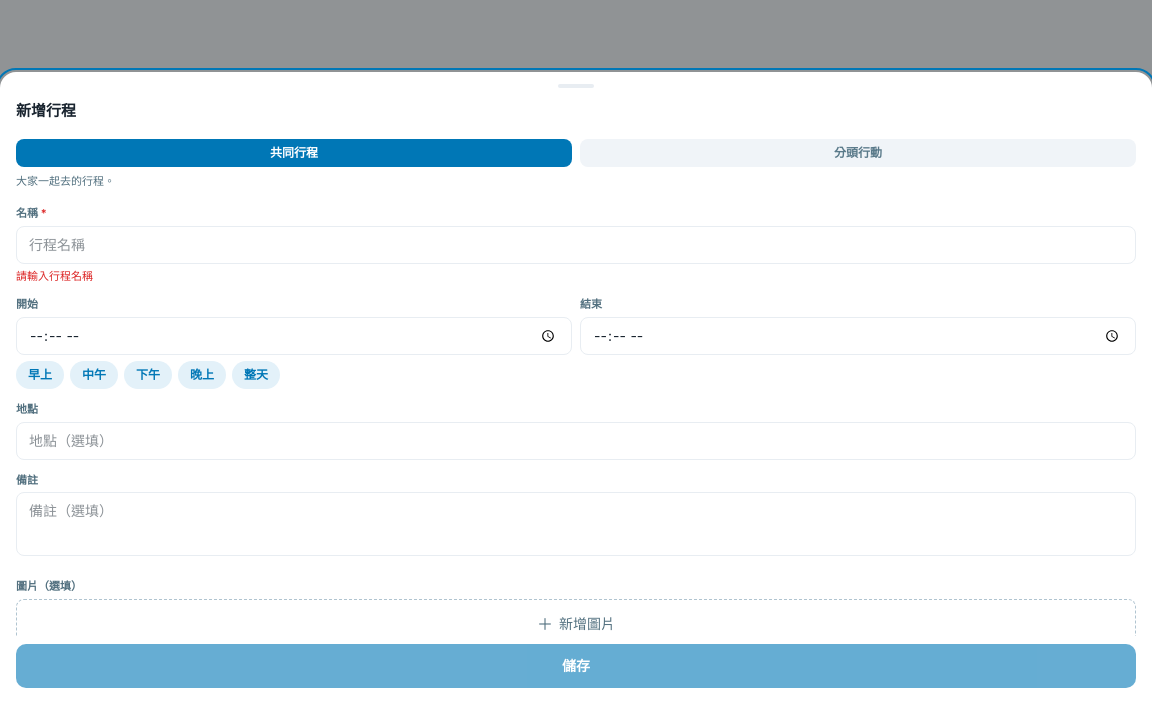
Test: EventSheet › switches to fork mode and shows member selects when members provided
Click the button "分頭行動" at (858, 152), box [580, 138, 1136, 166]
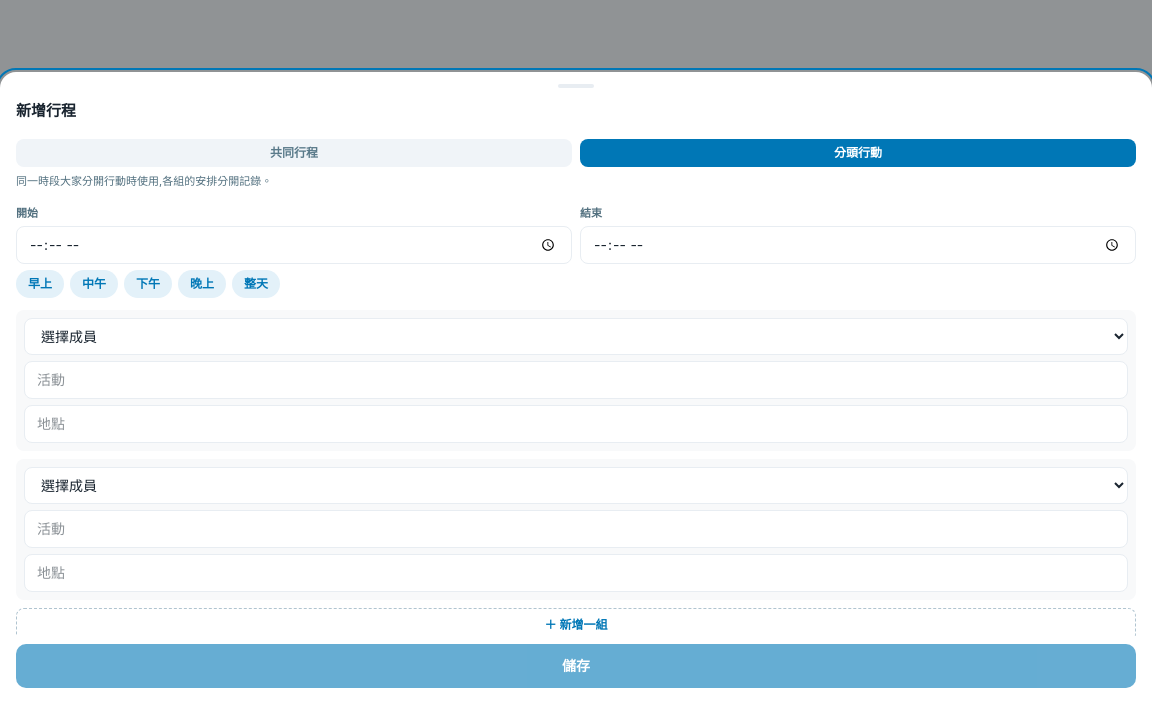
Check: the number of dropdowns is 2, box [24, 318, 1128, 355]; [24, 467, 1128, 504]
